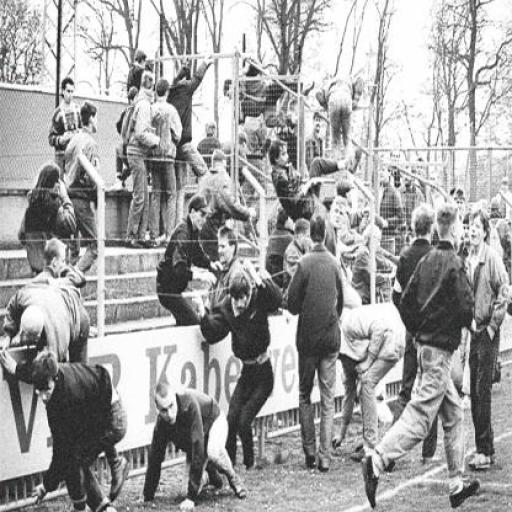Fighting: (8, 60, 512, 509)
